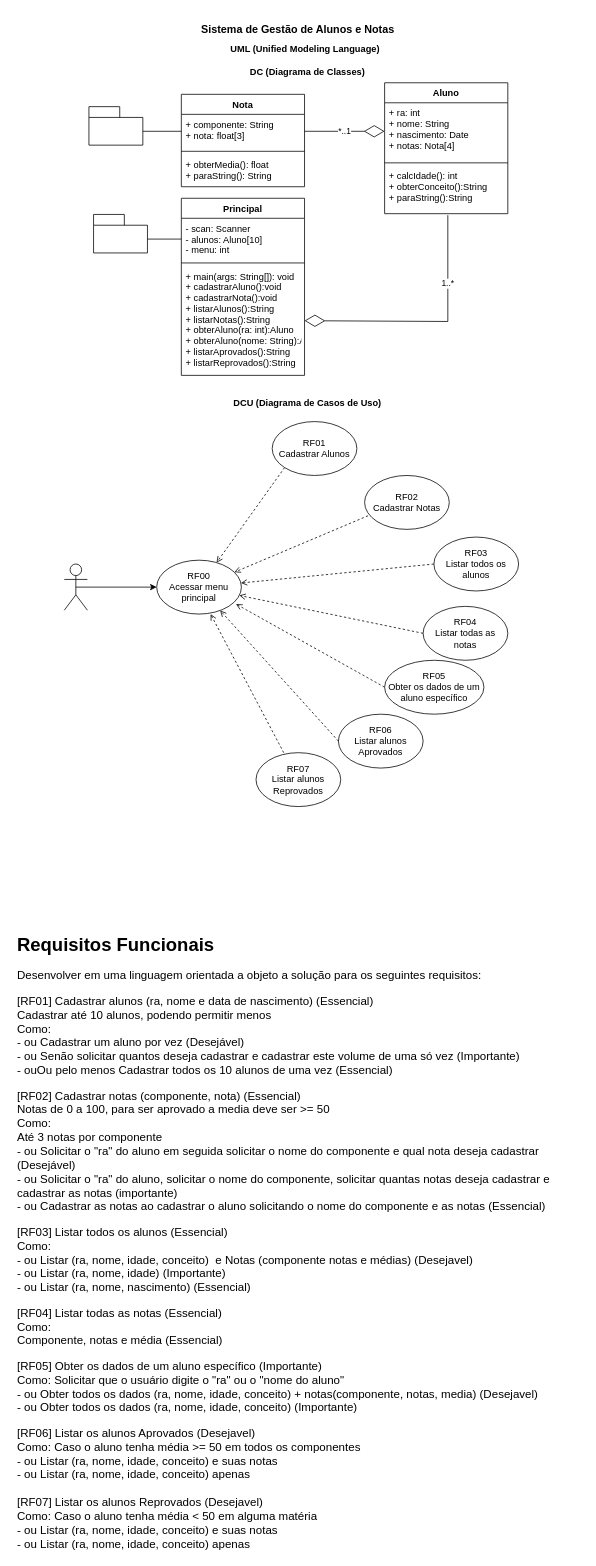
Some shapes in this 596 by 1566 pixel diagram are drawn without their labels. The shapes that lost their labels are listed below. From the top down, each one's centre as x and y in pixels, then its label:
the point at 115,125: modelo
the point at 120,233: visao
the point at 75,586: Funcionário da Secretaria
